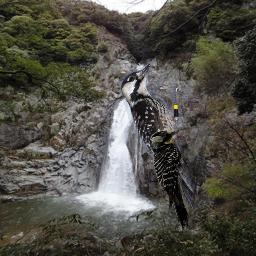Woodpecker: (120, 62, 196, 209), (149, 129, 199, 232)
